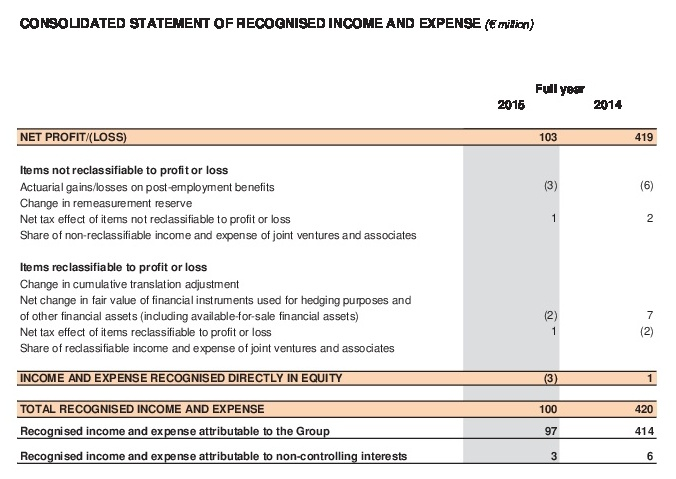table: (0, 0, 676, 479)
